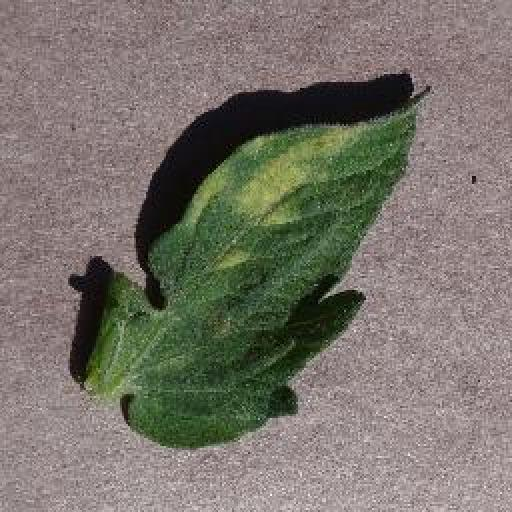Leaf Mold: (85, 105, 416, 448)
